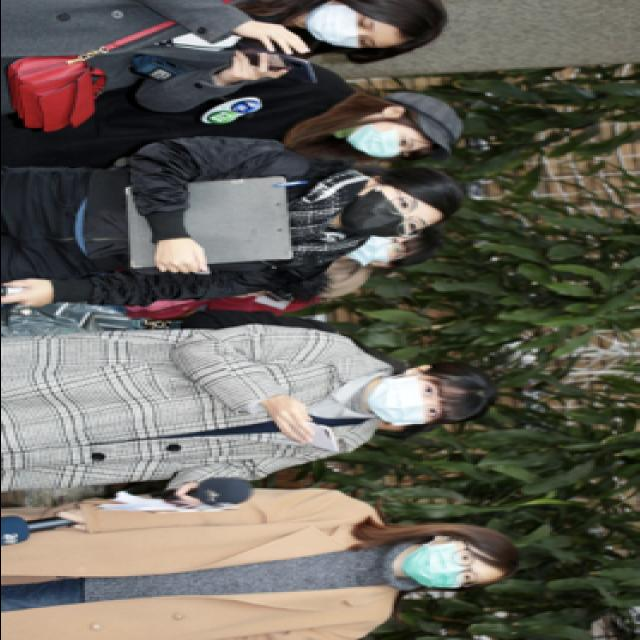with_mask: (364, 373, 452, 424), (341, 189, 432, 237), (405, 539, 484, 587), (304, 2, 384, 48), (346, 122, 422, 158), (350, 232, 408, 264)
